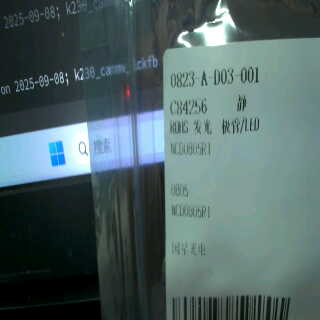LED: (189, 115, 270, 137)
